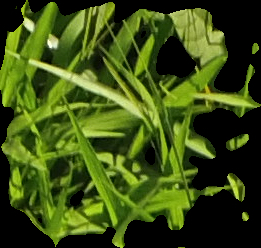grass: (1, 1, 260, 246)
